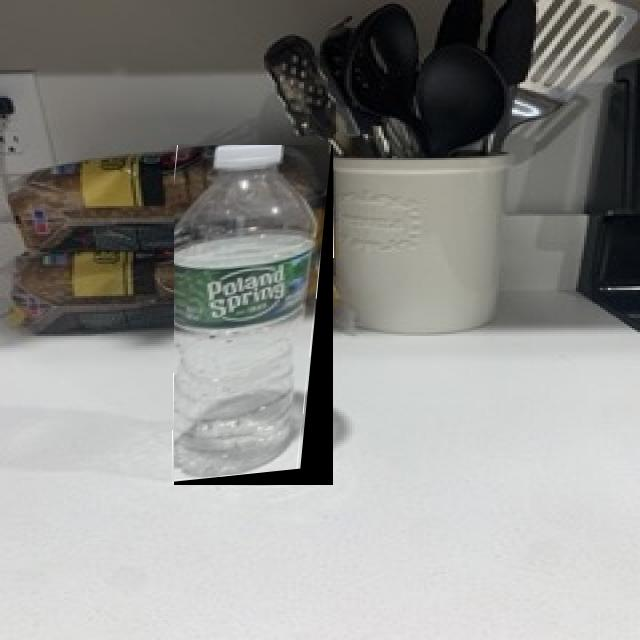water_bottle: (174, 145, 333, 485)
